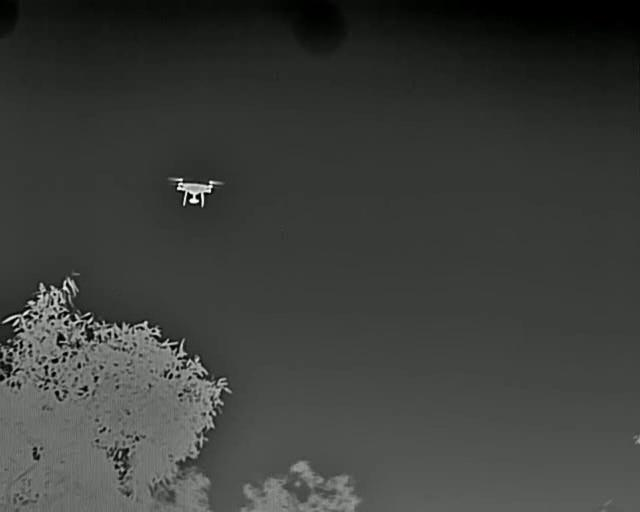DJI-Phantom: (167, 176, 225, 212)
